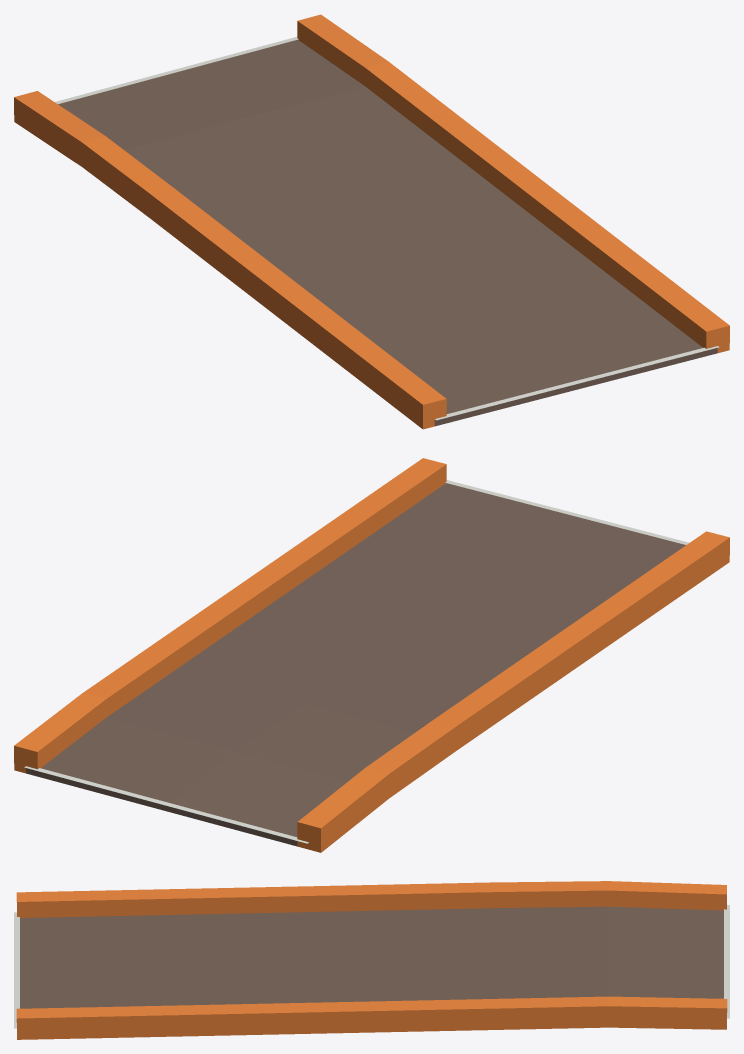
Rendered from SM_MP_Film_B_5_1.fbx.
3 views of the same model, one above another, from view 1: azimuth 30°, elevation 25°; view 2: azimuth 150°, elevation 25°; view 3: azimuth 270°, elevation 25° (orthographic). The views are drawn at different scales.
Parts seen in each view (by area): view 1: SM_MP_Film_B_5_1; view 2: SM_MP_Film_B_5_1; view 3: SM_MP_Film_B_5_1.
Boxes of the visible parts, bbox=[...] form: SM_MP_Film_B_5_1: bbox=[14, 14, 729, 429]; SM_MP_Film_B_5_1: bbox=[14, 458, 729, 852]; SM_MP_Film_B_5_1: bbox=[14, 881, 729, 1039].
Size of what is drawn, in the model's own units: 260 by 605 by 35.09.
